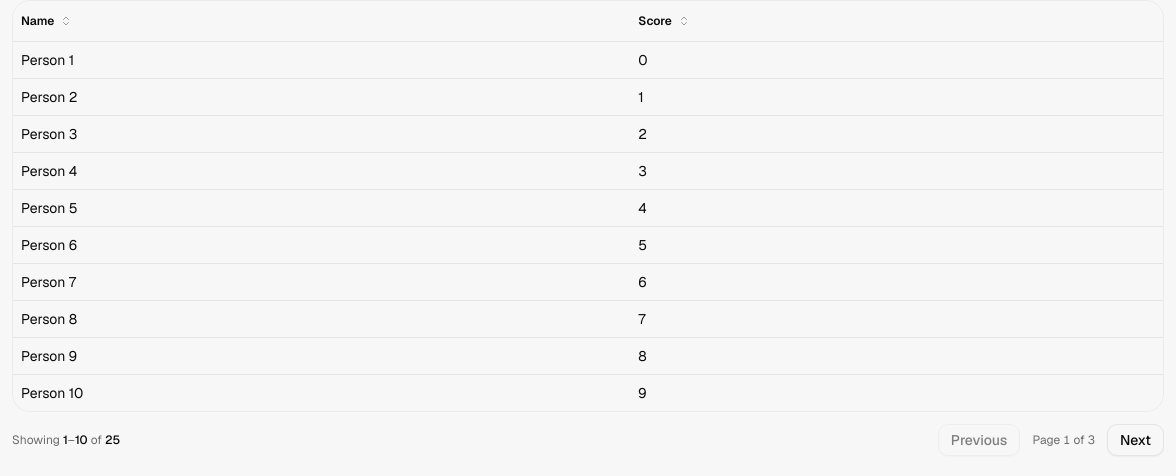
DataTable — pagination › advances to the next page
What coordinates should you click on to do the following:
click the button "Next"
I would click on:
 (1135, 440)
Its box is [1107,424,1164,456].
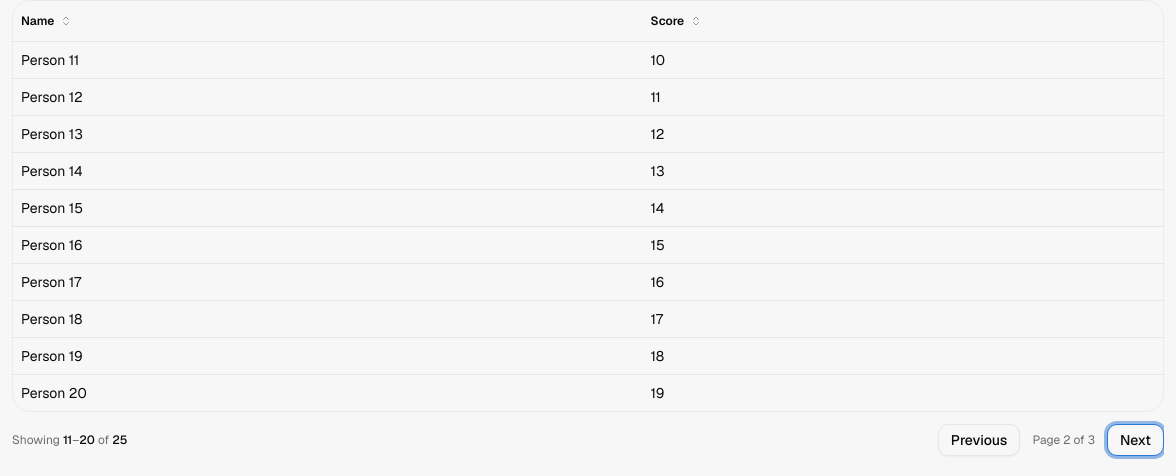
Check: the text "Showing 11–20 of 25" is shown, box [12,432,128,448]
Check: the button "Previous" is enabled, box [938,424,1020,456]
